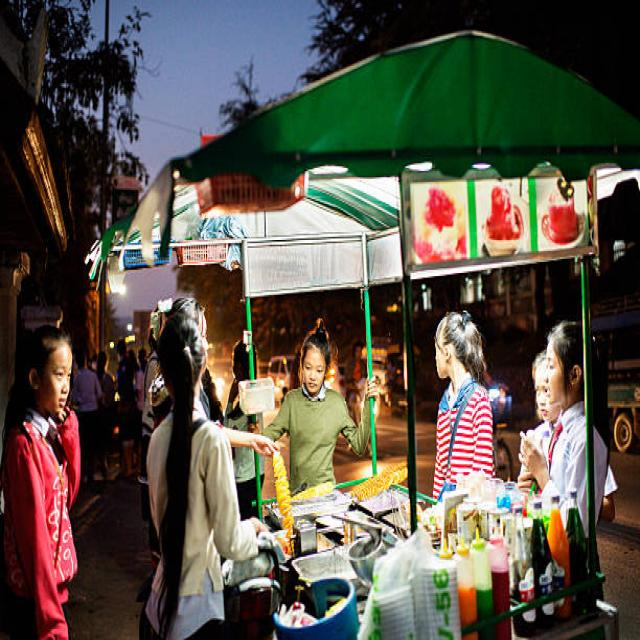Emperan: (102, 23, 639, 640)
